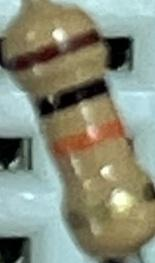Black: (31, 70, 109, 117)
Brown: (3, 28, 100, 75)
Orange: (46, 118, 125, 165)
Side-Silver: (63, 177, 155, 238)
